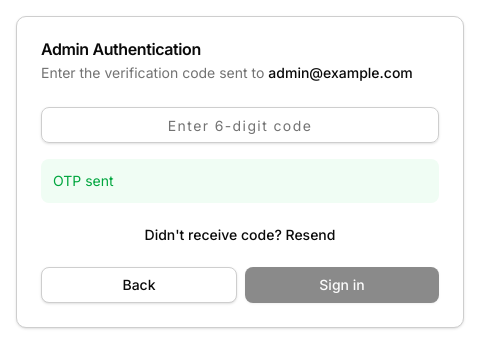
Test: EventOTPEntryPage › Regression checks › T023: OTP verify flow works correctly
// Enter OTP code
Type "123456" into the field with placeholder "Enter 6-digit code" at (240, 125), box [41,107,439,143]
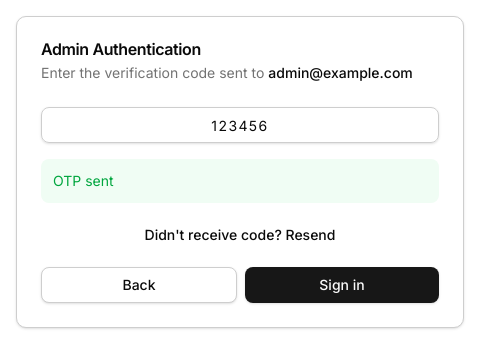
// Submit form
Click the button "Sign in" at (342, 285), box [245,267,439,303]
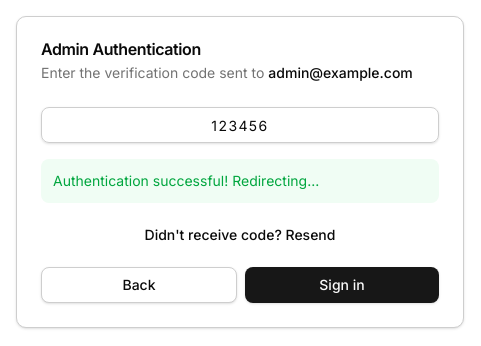
Now the text "Authentication successful! Redirecting..." is shown, box [41,159,439,203]
